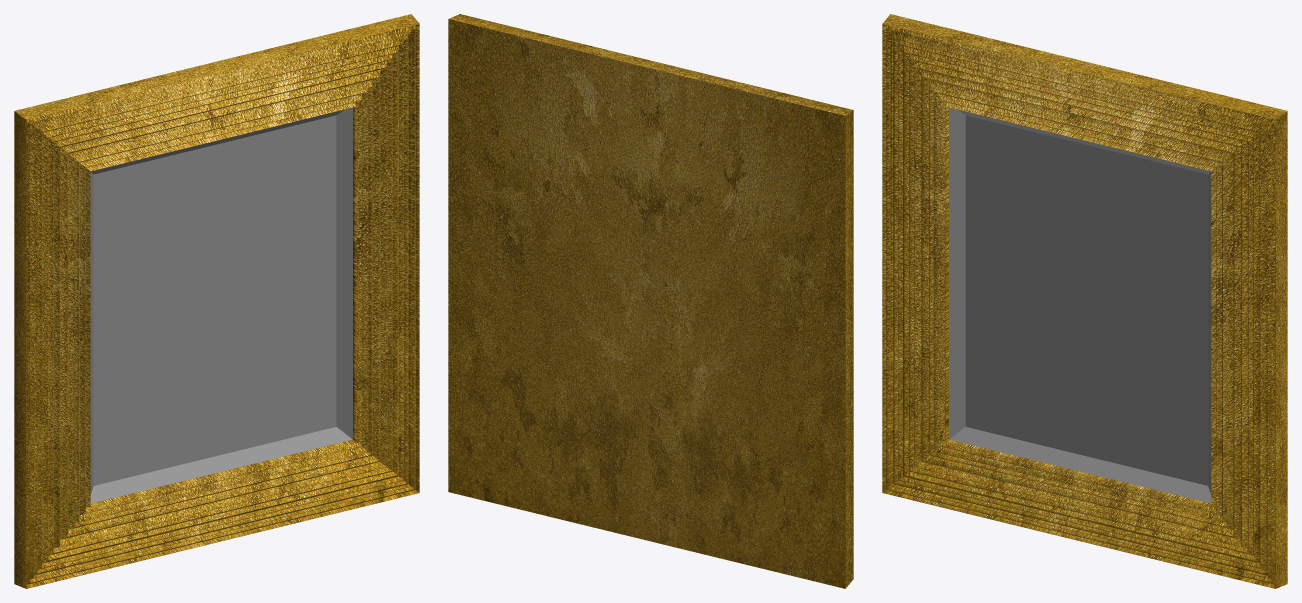
The model's file is Mirror 5.FBX.
3 views of the same model, side by side, from view 1: azimuth 30°, elevation 25°; view 2: azimuth 150°, elevation 25°; view 3: azimuth 330°, elevation 25° (orthographic).
Parts seen in each view (by area): view 1: mirror 5; view 2: mirror 5; view 3: mirror 5.
Boxes of the visible parts, bbox=[...] form: mirror 5: bbox=[14, 14, 419, 588]; mirror 5: bbox=[448, 14, 853, 588]; mirror 5: bbox=[882, 14, 1287, 588].
Bounding box in the file's own units: 81.94 × 93.26 × 3.86.
